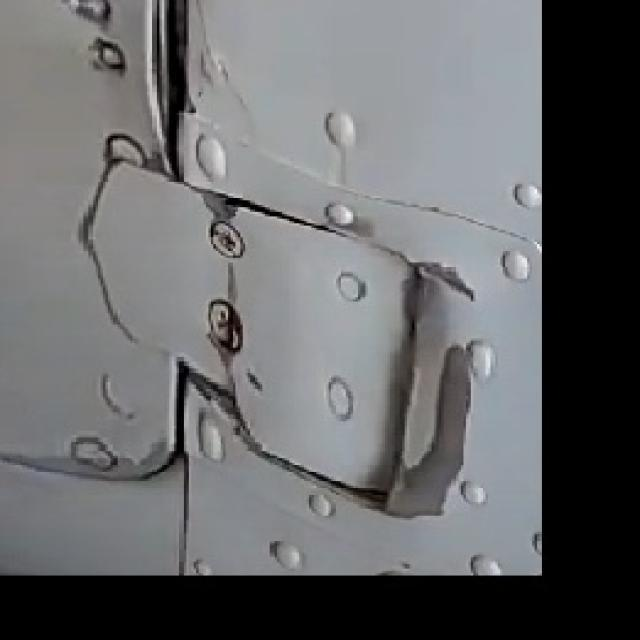crack: (207, 266, 266, 315)
